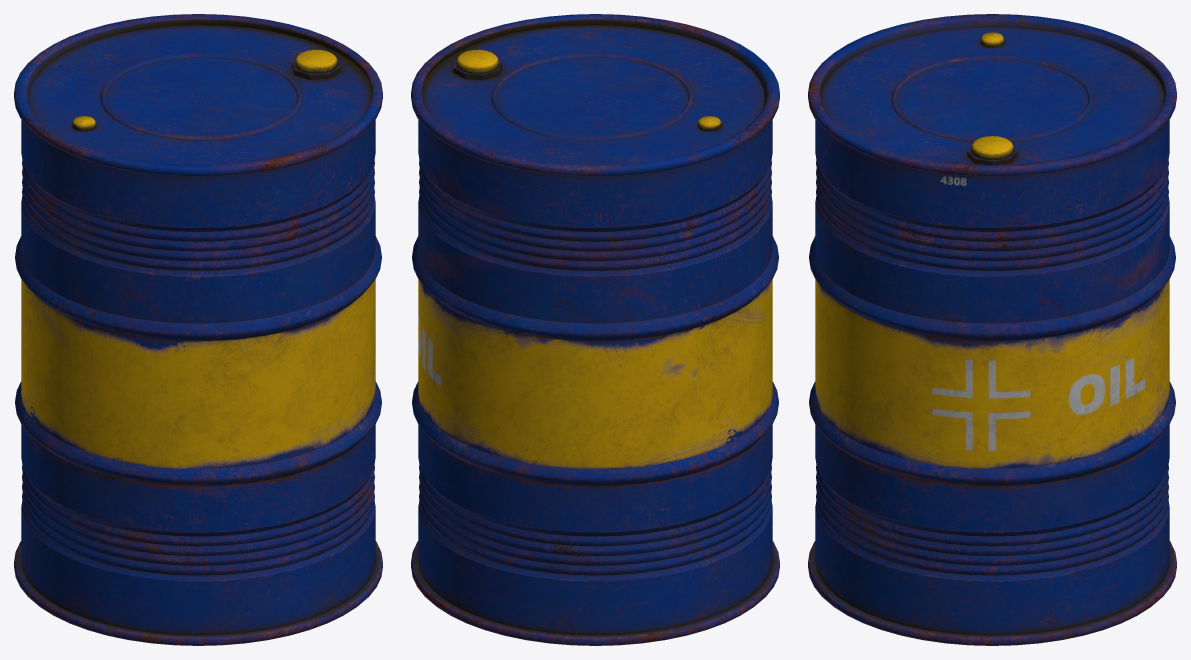
File: oil_barrel_drum.glb
3 renders of one model, left to right at view 1: azimuth 30°, elevation 25°; view 2: azimuth 150°, elevation 25°; view 3: azimuth 270°, elevation 25°, orthographic.
Parts seen in each view (by area): view 1: barrel_01; view 2: barrel_01; view 3: barrel_01.
Part boxes in pixels (x1,y1,x2,y2): barrel_01: [14, 14, 382, 645]; barrel_01: [411, 14, 779, 645]; barrel_01: [808, 14, 1176, 645].
Size of the model in its own units: 0.5958 by 0.86 by 0.5958.
1 material, 1 textured.
